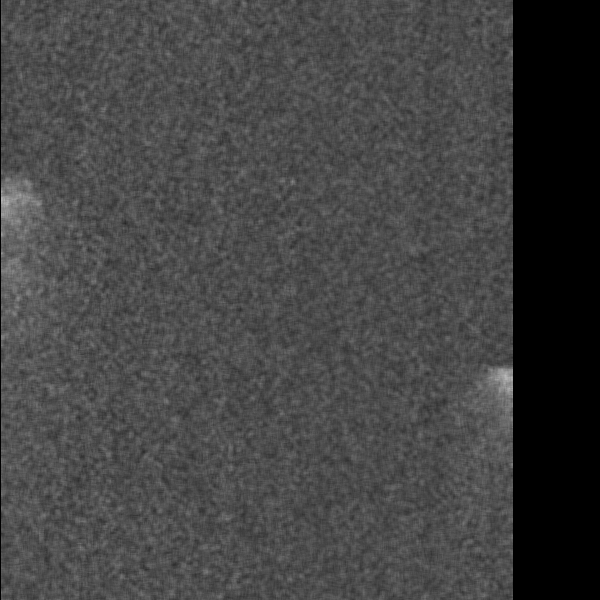spark: (137, 384, 172, 429), (108, 456, 146, 492)
